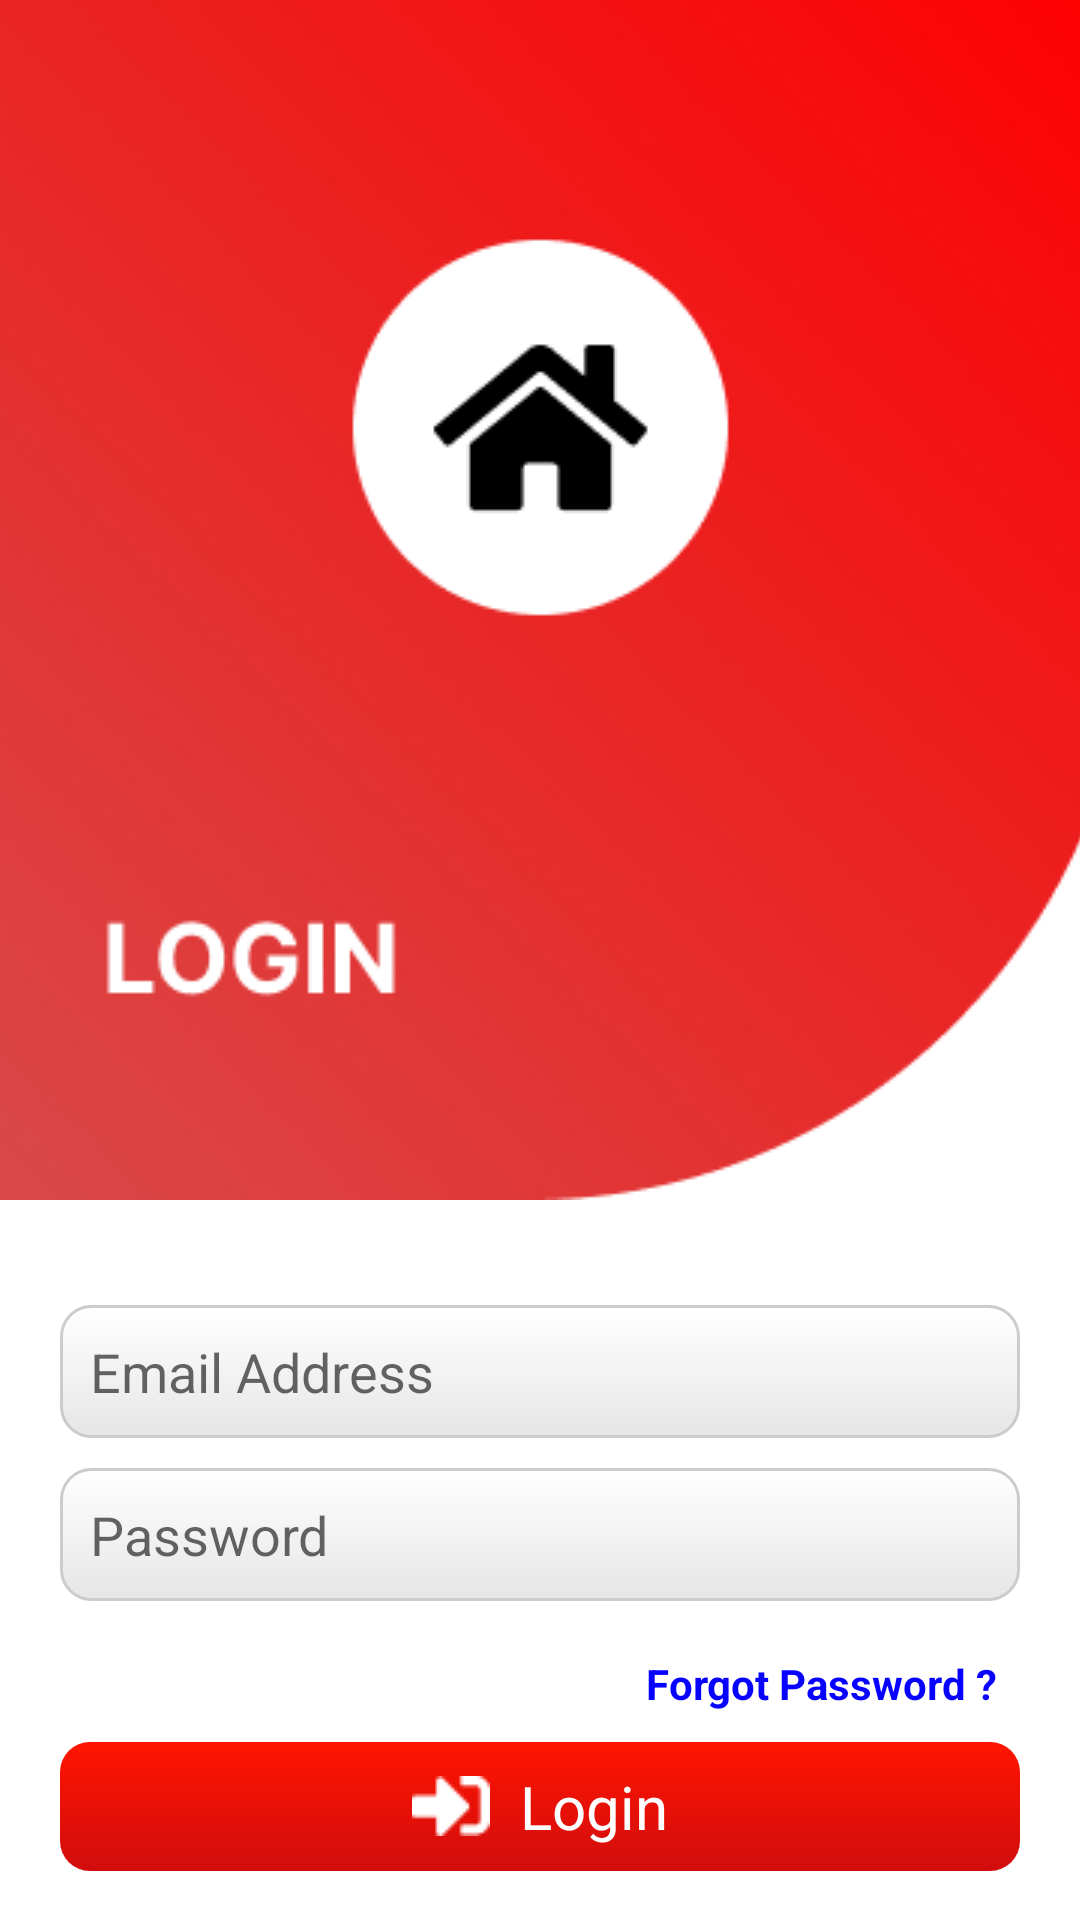

Named icons in this screenshot (1080px x 1920px) and their bounding boxes, bbox=[x1, y1, x2, y2]:
signin: bbox=[412, 1776, 490, 1836]
